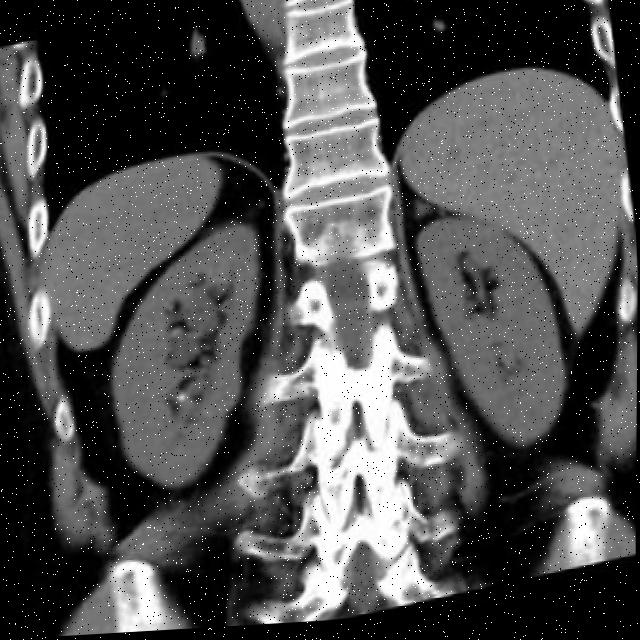Tas_Var: (176, 394, 188, 409)
